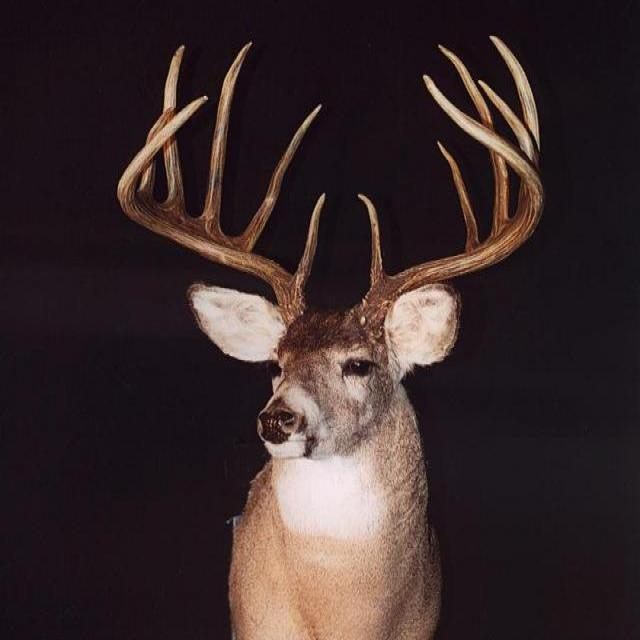deer: (123, 35, 554, 632)
